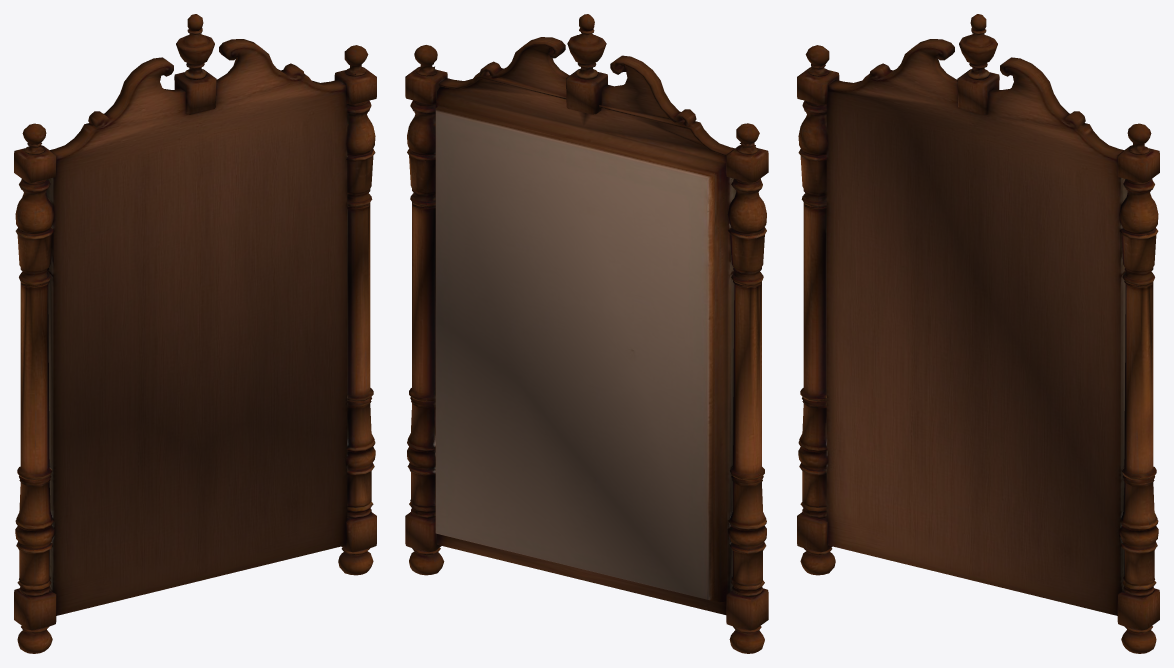
File: fixture-mirror-aged.glb
3 views of the same model, side by side, from view 1: azimuth 30°, elevation 25°; view 2: azimuth 150°, elevation 25°; view 3: azimuth 330°, elevation 25° (orthographic).
Visible parts, largest first — view 1: tripo_node_612d12f4-a16a-4cba-9463-0eb848d1ba43; view 2: tripo_node_612d12f4-a16a-4cba-9463-0eb848d1ba43; view 3: tripo_node_612d12f4-a16a-4cba-9463-0eb848d1ba43.
Boxes of the visible parts, <box> form: tripo_node_612d12f4-a16a-4cba-9463-0eb848d1ba43: <box>14,14,376,653</box>; tripo_node_612d12f4-a16a-4cba-9463-0eb848d1ba43: <box>405,14,768,653</box>; tripo_node_612d12f4-a16a-4cba-9463-0eb848d1ba43: <box>797,14,1159,653</box>.
Bounding box in the file's own units: 0.5 × 0.8 × 0.06.
Materials: 1 (1 with a texture image).
